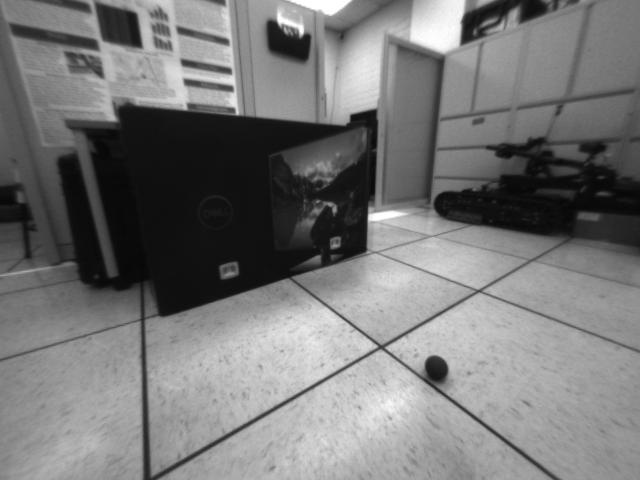dogtoy: (420, 349, 452, 385)
